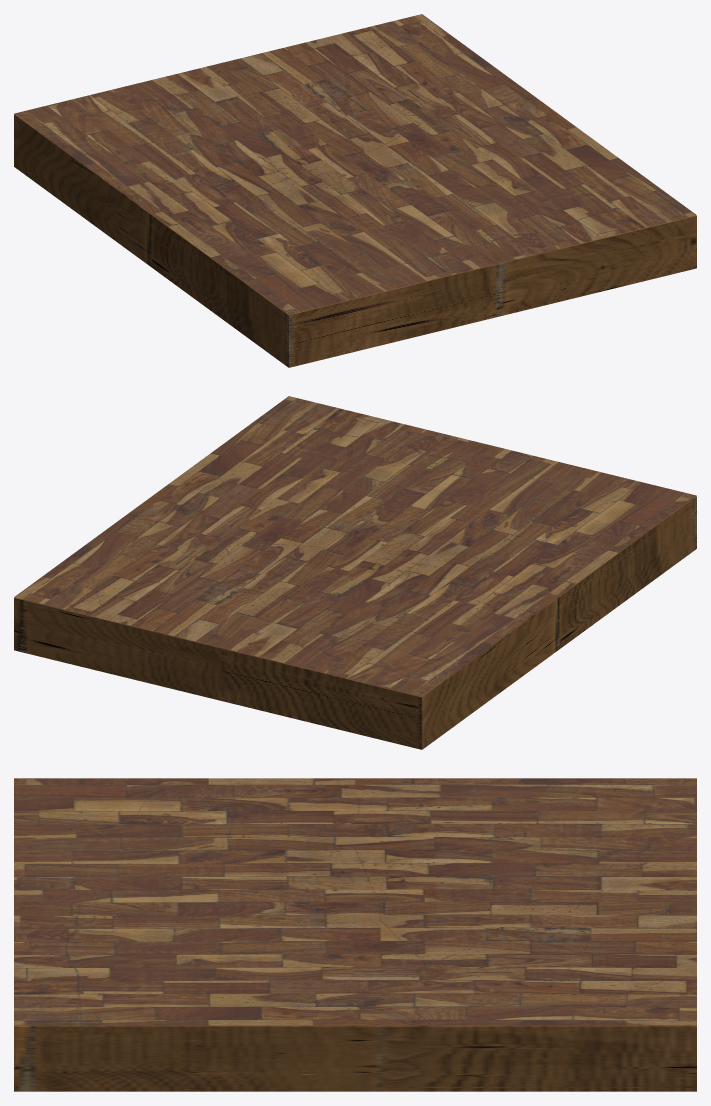
The model's file is chao.fbx.
3 views of the same model, one above another, from view 1: azimuth 30°, elevation 25°; view 2: azimuth 150°, elevation 25°; view 3: azimuth 270°, elevation 25° (orthographic). The views are drawn at different scales.
Parts seen in each view (by area): view 1: Plane; view 2: Plane; view 3: Plane.
Part boxes in pixels (left/top/right/bottom): Plane: left=14, top=14, right=696, bottom=367; Plane: left=14, top=396, right=696, bottom=749; Plane: left=14, top=778, right=696, bottom=1091.
Size of the model in its own units: 2378 by 296 by 2775.
